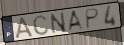4: (103, 4, 118, 28)
A: (15, 16, 35, 40), (67, 9, 86, 33)
C: (32, 14, 51, 37)
N: (49, 11, 68, 35)
P: (85, 8, 100, 30)
